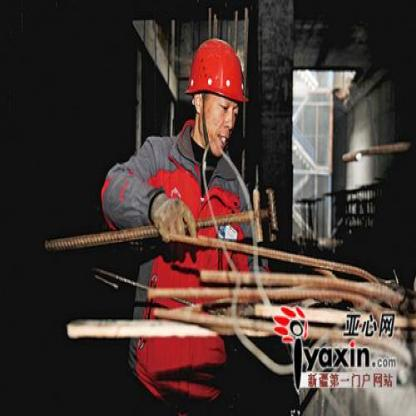helmet: (182, 29, 251, 153)
